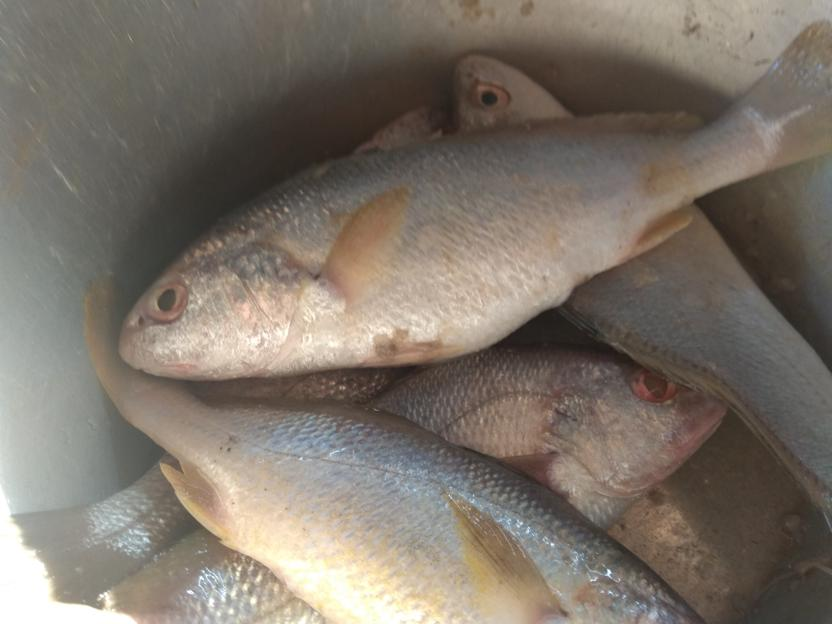Fish head: (116, 232, 308, 384), (556, 347, 726, 500), (454, 52, 575, 130)
Fish tail: (737, 16, 832, 180), (12, 497, 150, 606), (82, 265, 163, 403)
